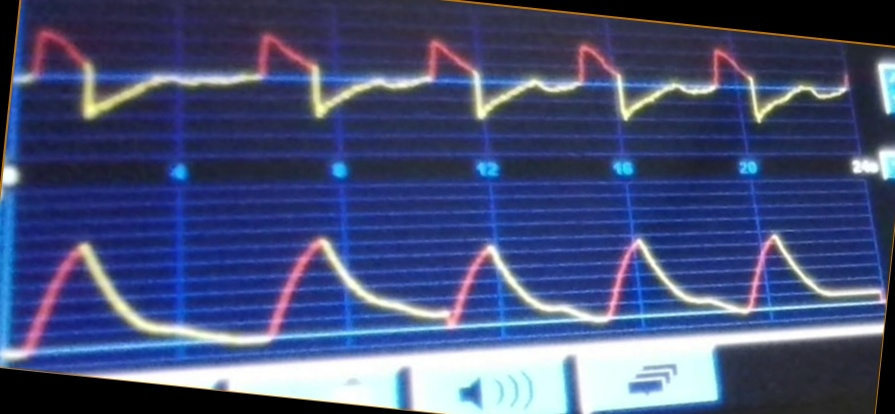Ineffective_effort Flow: (18, 23, 849, 127)
Ineffective_effort Volume: (9, 227, 880, 354)
